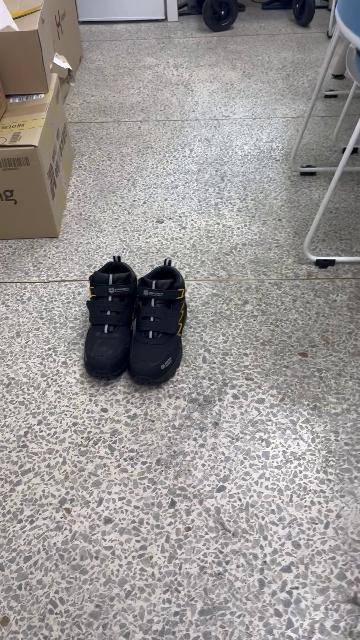shoe_worn: (134, 257, 190, 388), (84, 254, 138, 379)
